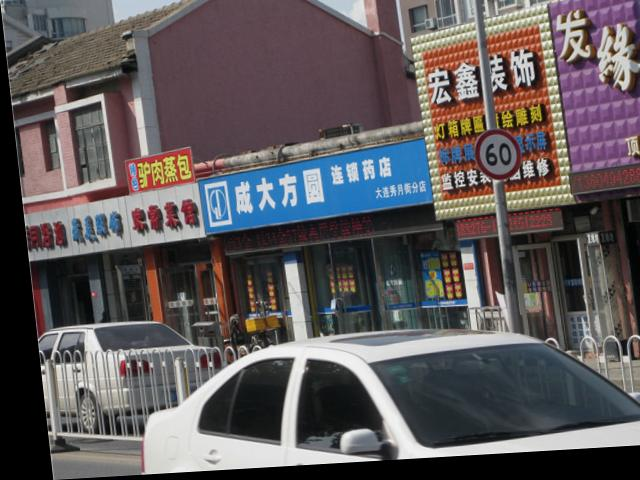limit60: (471, 136, 519, 185)
